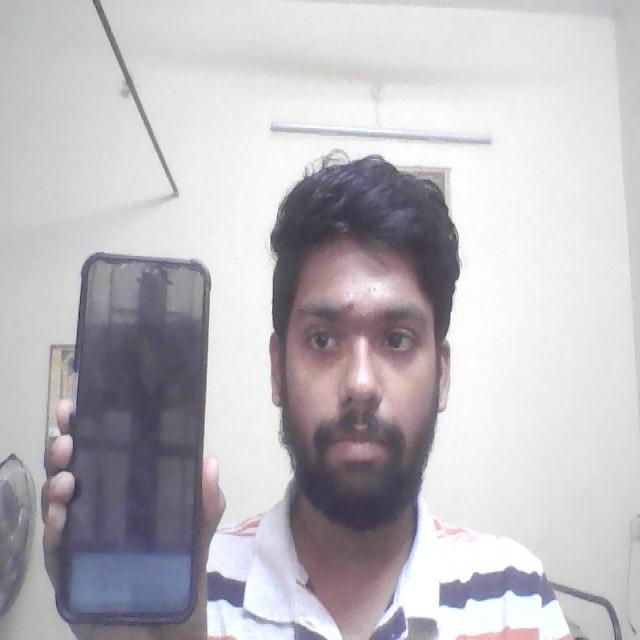Mobile: (56, 243, 215, 622)
